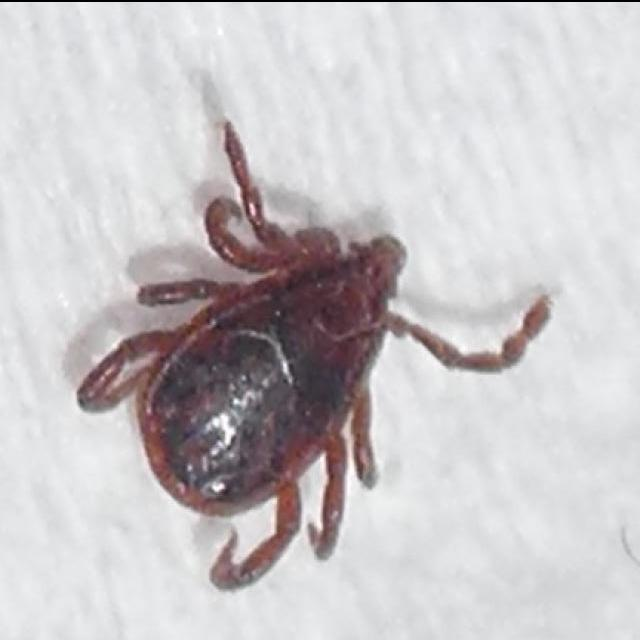Rhipicephalus Sanguineus-M: (74, 117, 553, 588)
